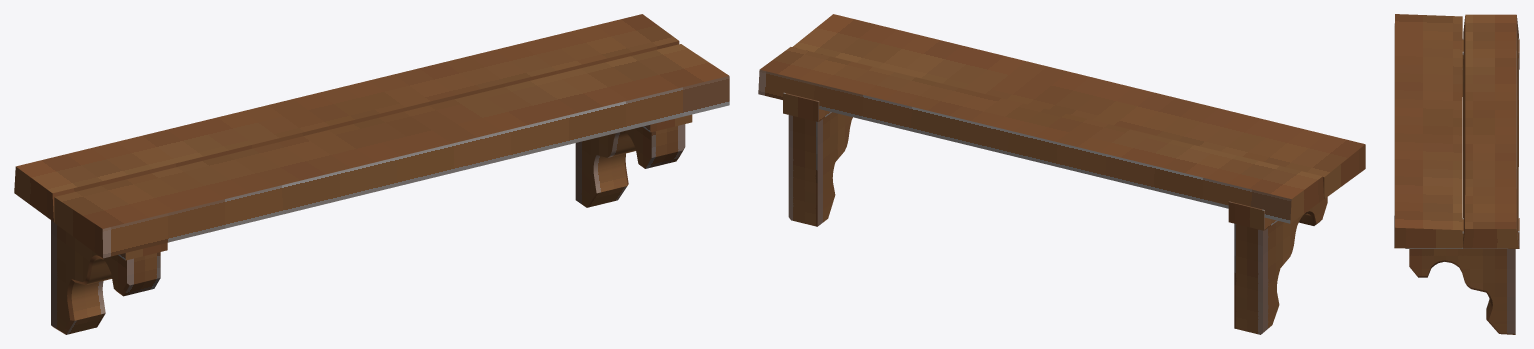
File: shelf-nDD-opu8.glb
The picture shows the model from 3 angles, left to right: view 1: azimuth 30°, elevation 25°; view 2: azimuth 150°, elevation 25°; view 3: azimuth 270°, elevation 25°; orthographic projection. The views are drawn at different scales.
Size of the model in its own units: 1.18 by 0.3087 by 0.2923.
1 material, 1 textured.
